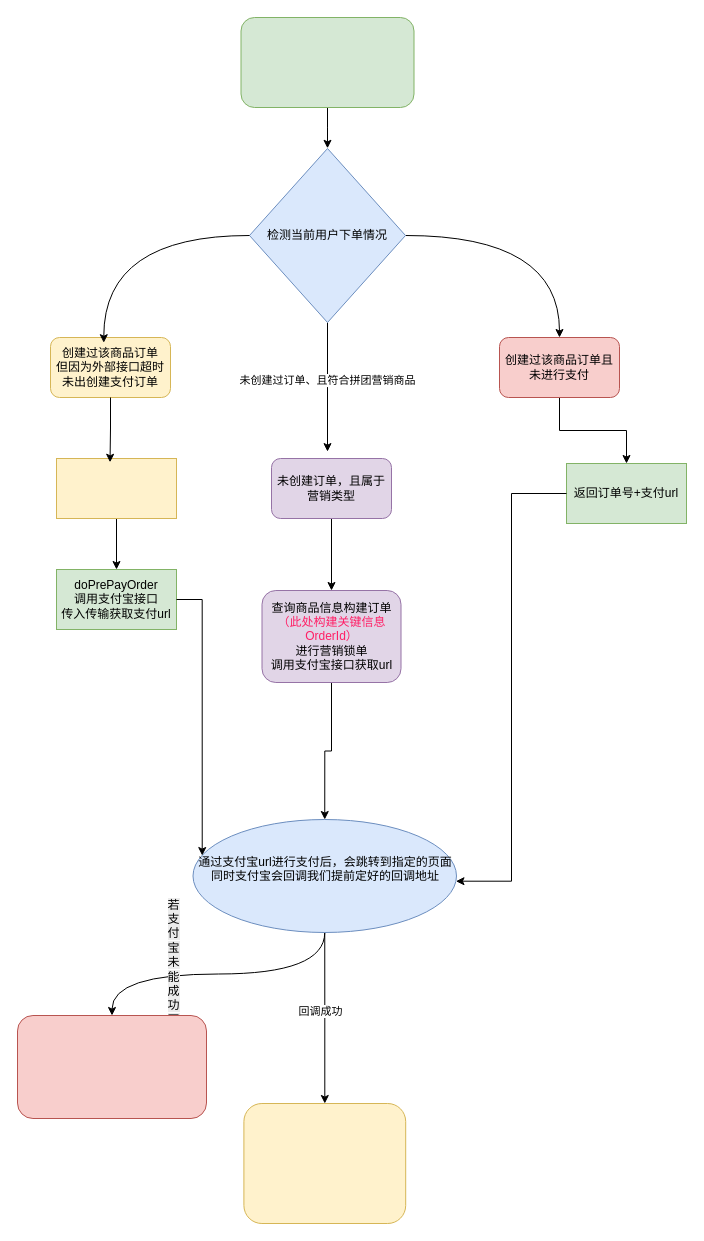
This 704x1241 diagram has some shape labels left out. Each missing label, with the centre of its shape:
"更新订单信息 发送营销结算回调（HTTP）" belongs at point (324, 1163).
"用户发起下单 createOrder" belongs at point (327, 62).
"进行营销锁单" belongs at point (116, 488).
"通过定时任务检测未支付订单 调用支付宝接口 通过返回结果判断是否支付成功" belongs at point (111, 1066).
